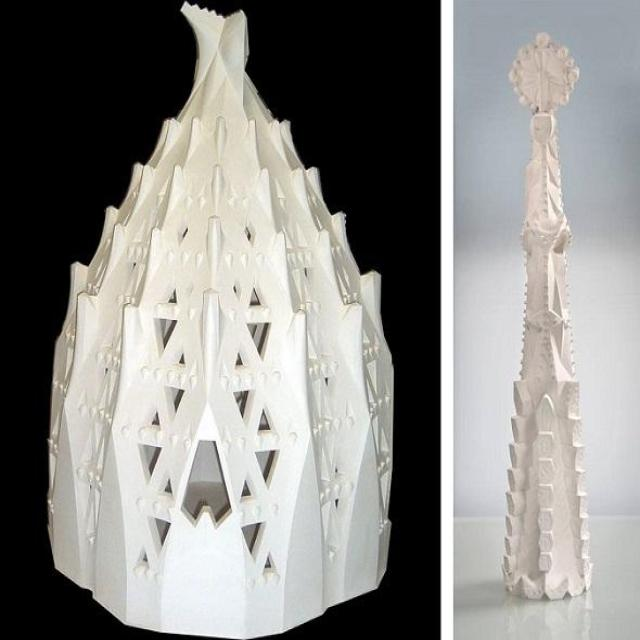Without deffect: (25, 1, 420, 628)
